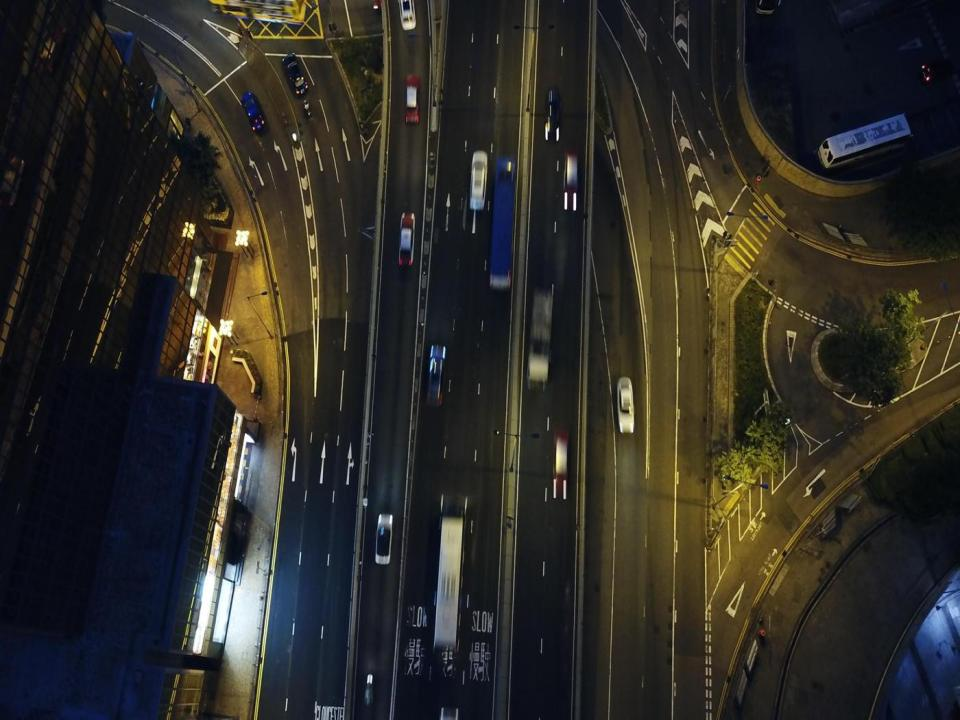bus: (818, 113, 914, 168), (433, 516, 463, 651), (490, 157, 515, 288), (526, 289, 552, 389), (209, 0, 307, 26)
car: (425, 343, 448, 409), (397, 209, 418, 270), (552, 427, 568, 499), (470, 150, 488, 211), (282, 53, 308, 95), (616, 377, 635, 433), (404, 72, 422, 125), (241, 92, 264, 132), (544, 86, 560, 141), (375, 513, 392, 564), (564, 146, 576, 211), (363, 674, 373, 712)
